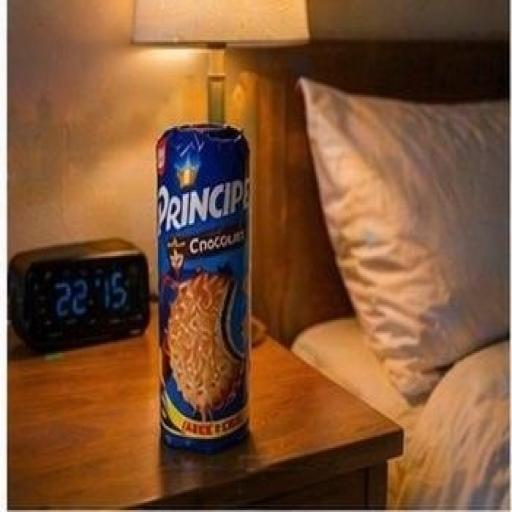prince: (124, 97, 319, 475)
